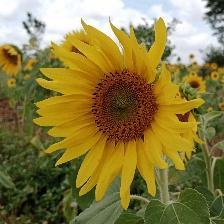sunflower: (34, 17, 209, 210), (60, 30, 90, 62), (1, 41, 25, 78), (182, 75, 206, 98), (27, 60, 39, 72), (187, 51, 198, 62), (212, 74, 224, 84), (7, 79, 19, 88), (189, 72, 200, 80), (210, 60, 219, 69), (185, 65, 193, 72), (193, 62, 199, 68)
